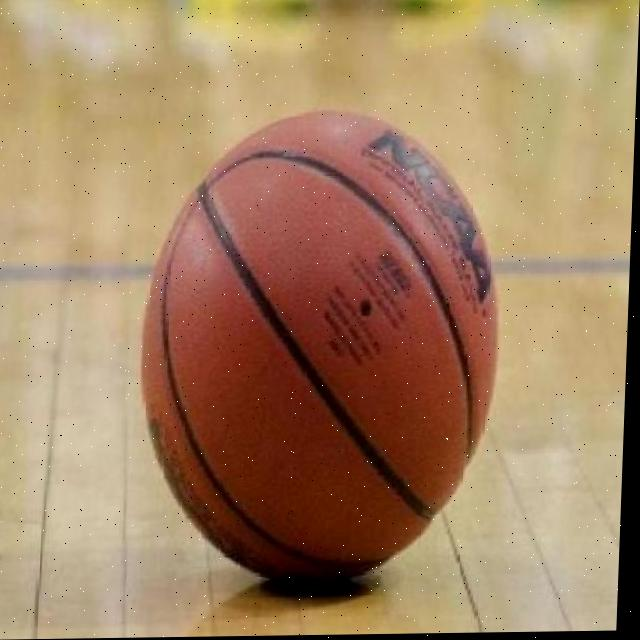Basketball: (133, 106, 509, 586)
